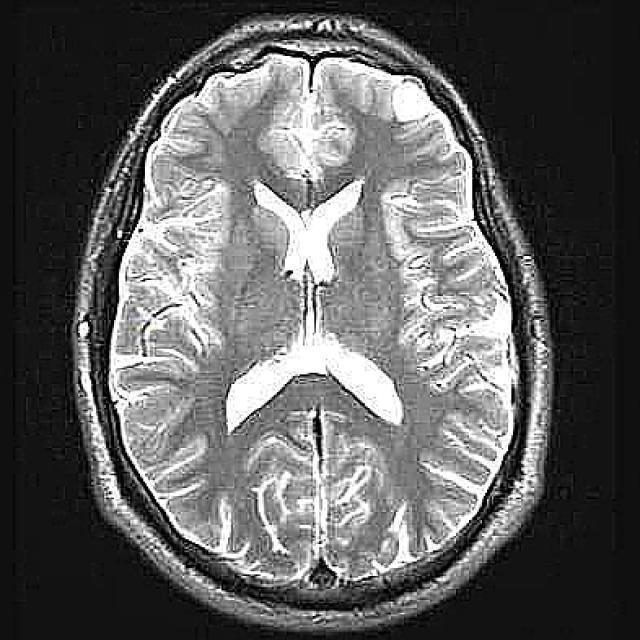No_Tumor: (73, 14, 552, 630)
